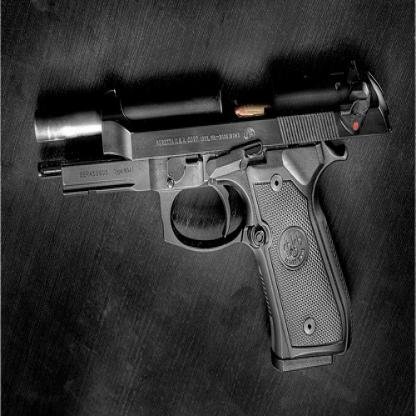handgun: (31, 71, 391, 380)
